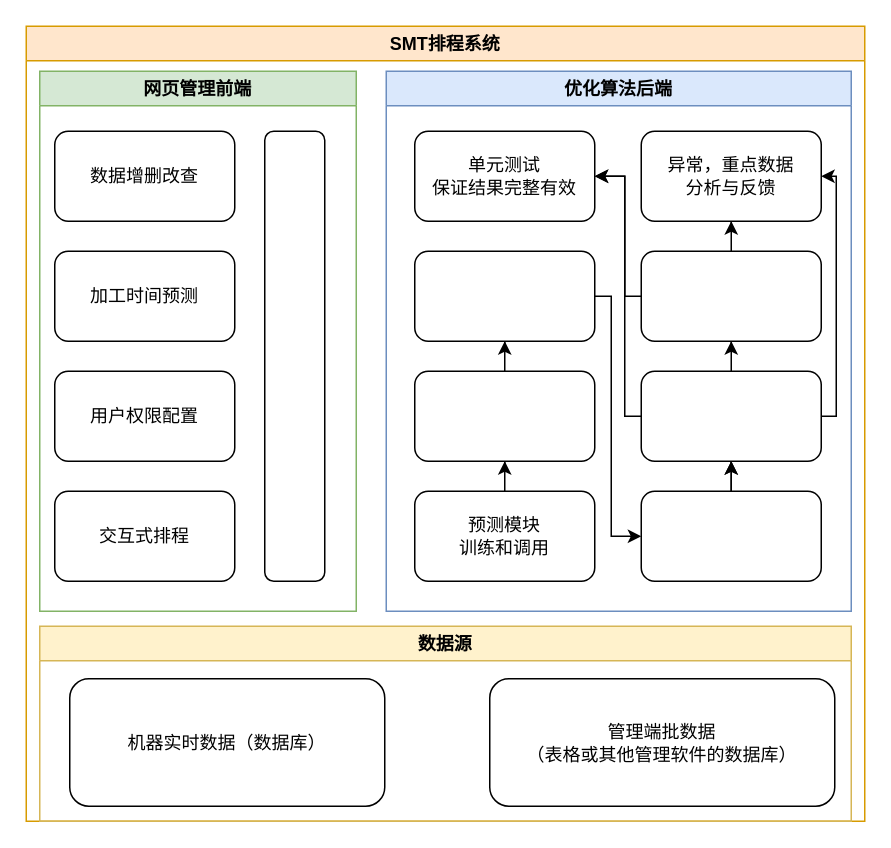
Image size: 891x848. Some labels were removed from this diagram. The shapes that lost their labels are listed below. From the top down, each one's centre as x and y in pixels, then its label:
At [504,295]: "定制化目标值 通用目标值 配置".
At [730,295]: "深度优化解 （可选，10-30分钟）".
At [294,355]: "记录 历史 操作 自动 备份".
At [504,415]: "定制化约束 通用约束 配置".
At [730,415]: "可行初始解 （全流程预计3分钟）".
At [730,535]: "基础排程计算 （可配置维护时间）".
